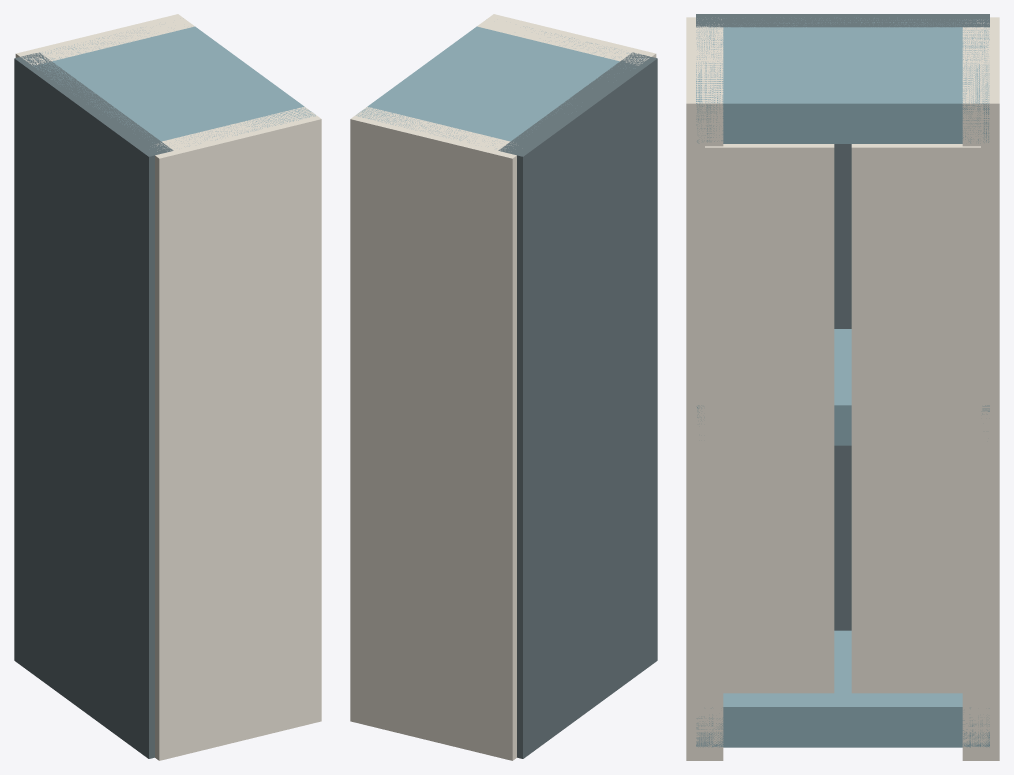
The model's file is prop_storage_locker_v4_ShadowProxy.glb.
3 renders of one model, left to right at view 1: azimuth 30°, elevation 25°; view 2: azimuth 150°, elevation 25°; view 3: azimuth 270°, elevation 25°, orthographic. The views are drawn at different scales.
Parts seen in each view (by area): view 1: prop_storage_locker_v4_ShadowProxy / Primary assembly; view 2: prop_storage_locker_v4_ShadowProxy / Primary assembly; view 3: prop_storage_locker_v4_ShadowProxy / Primary assembly.
Part boxes in pixels (x1,y1,x2,y2): prop_storage_locker_v4_ShadowProxy / Primary assembly: (14,14,321,760); prop_storage_locker_v4_ShadowProxy / Primary assembly: (350,14,657,760); prop_storage_locker_v4_ShadowProxy / Primary assembly: (686,14,999,760).
Bounding box in the file's own units: 0.5795 × 1.95 × 0.8426.
